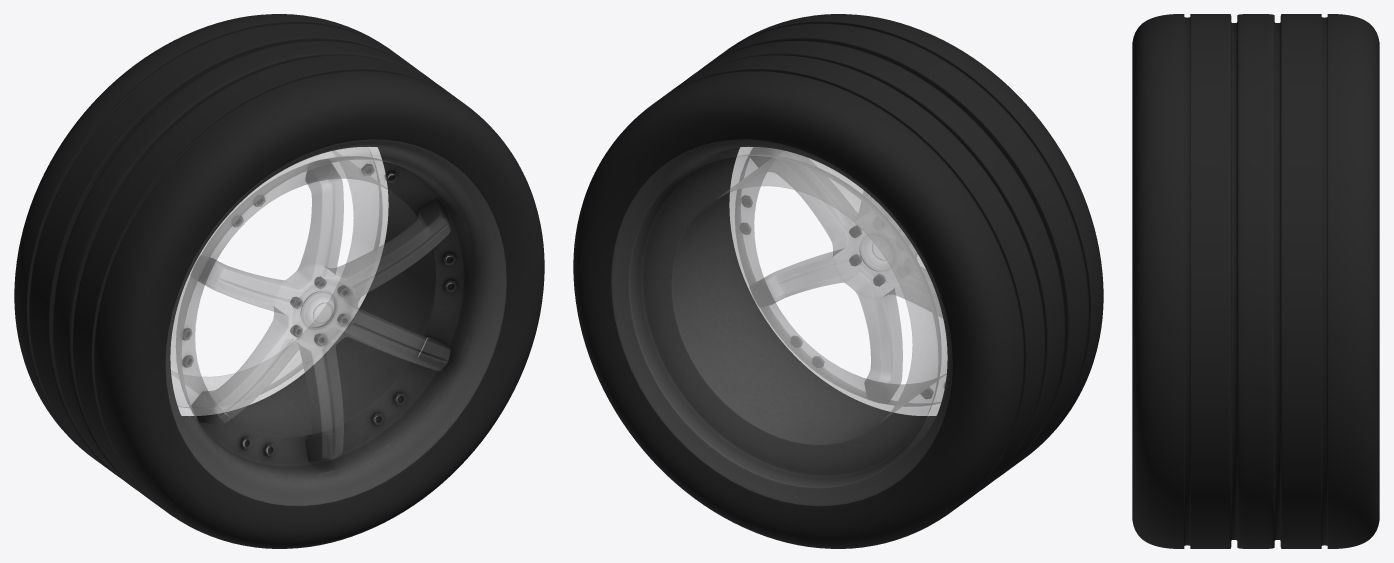
Rendered from tire.glb.
3 views of the same model, side by side, from view 1: azimuth 30°, elevation 25°; view 2: azimuth 150°, elevation 25°; view 3: azimuth 270°, elevation 25° (orthographic). The views are drawn at different scales.
Parts seen in each view (by area): view 1: 13483_Street_Tire_v2_l3; view 2: 13483_Street_Tire_v2_l3; view 3: 13483_Street_Tire_v2_l3.
Boxes of the visible parts, left/top/right/bottom form: 13483_Street_Tire_v2_l3: left=14, top=14, right=544, bottom=548; 13483_Street_Tire_v2_l3: left=573, top=14, right=1103, bottom=548; 13483_Street_Tire_v2_l3: left=1132, top=14, right=1379, bottom=548.
Bounding box in the file's own units: 3.12 × 3.12 × 1.44.
Materials: 2 (2 with a texture image).
